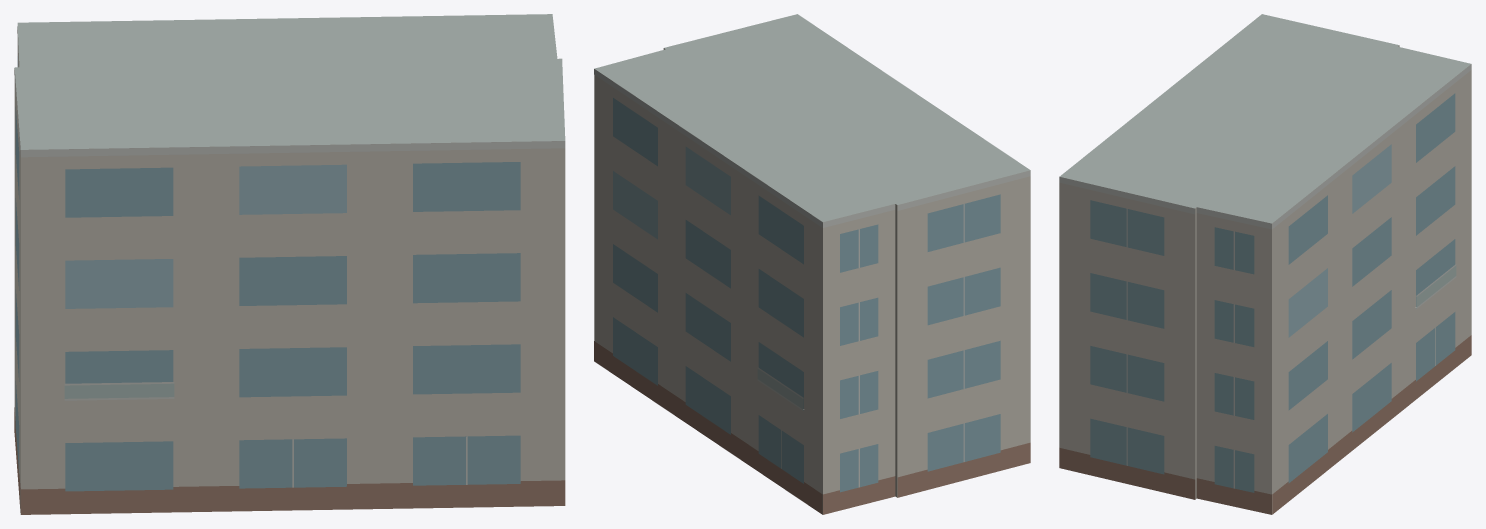
File: survey-upis-32882539.glb
The picture shows the model from 3 angles, left to right: view 1: azimuth 30°, elevation 25°; view 2: azimuth 150°, elevation 25°; view 3: azimuth 270°, elevation 25°; orthographic projection. The views are drawn at different scales.
Visible parts, largest first — view 1: survey-upis-32882539.tmp; view 2: survey-upis-32882539.tmp; view 3: survey-upis-32882539.tmp.
Boxes of the visible parts, bbox=[...] form: survey-upis-32882539.tmp: bbox=[14, 14, 565, 514]; survey-upis-32882539.tmp: bbox=[594, 14, 1030, 514]; survey-upis-32882539.tmp: bbox=[1059, 14, 1471, 514].
Bounding box in the file's own units: 18.68 × 12.1 × 15.52.
